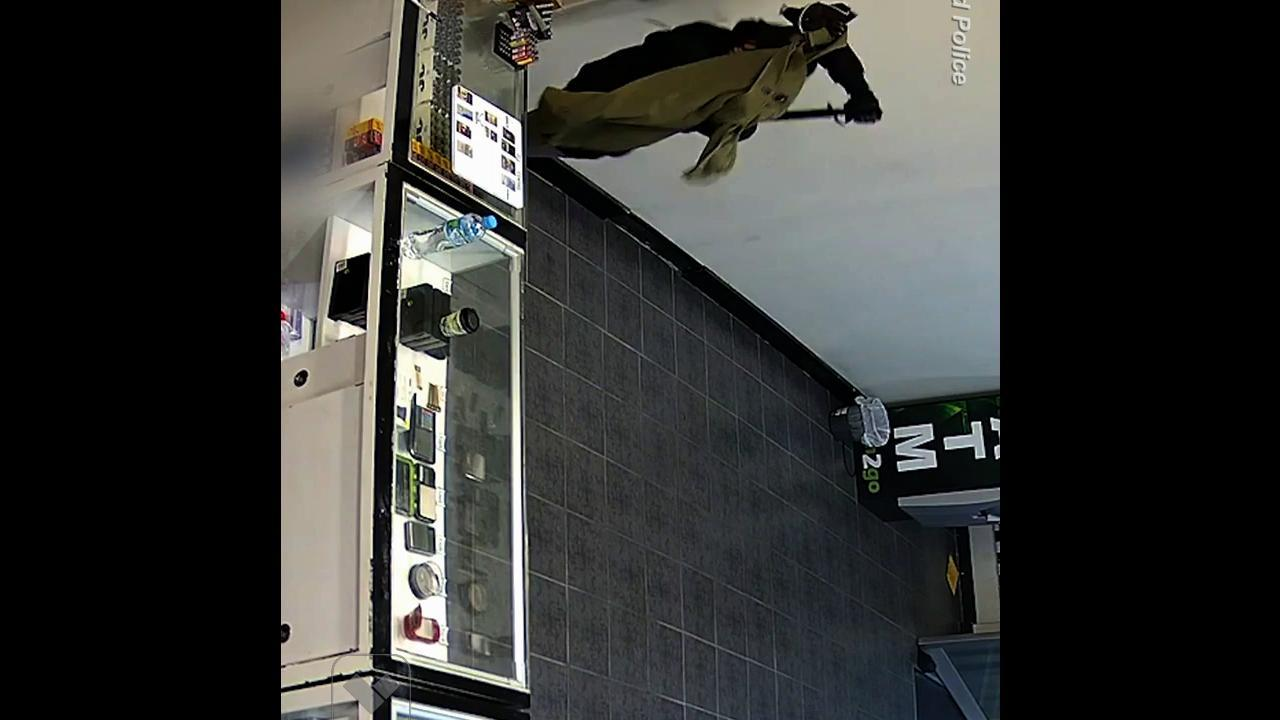melee: (769, 102, 860, 130)
